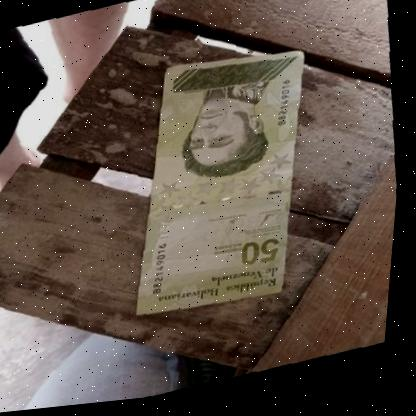fifty-front-vef: (102, 34, 343, 335)
